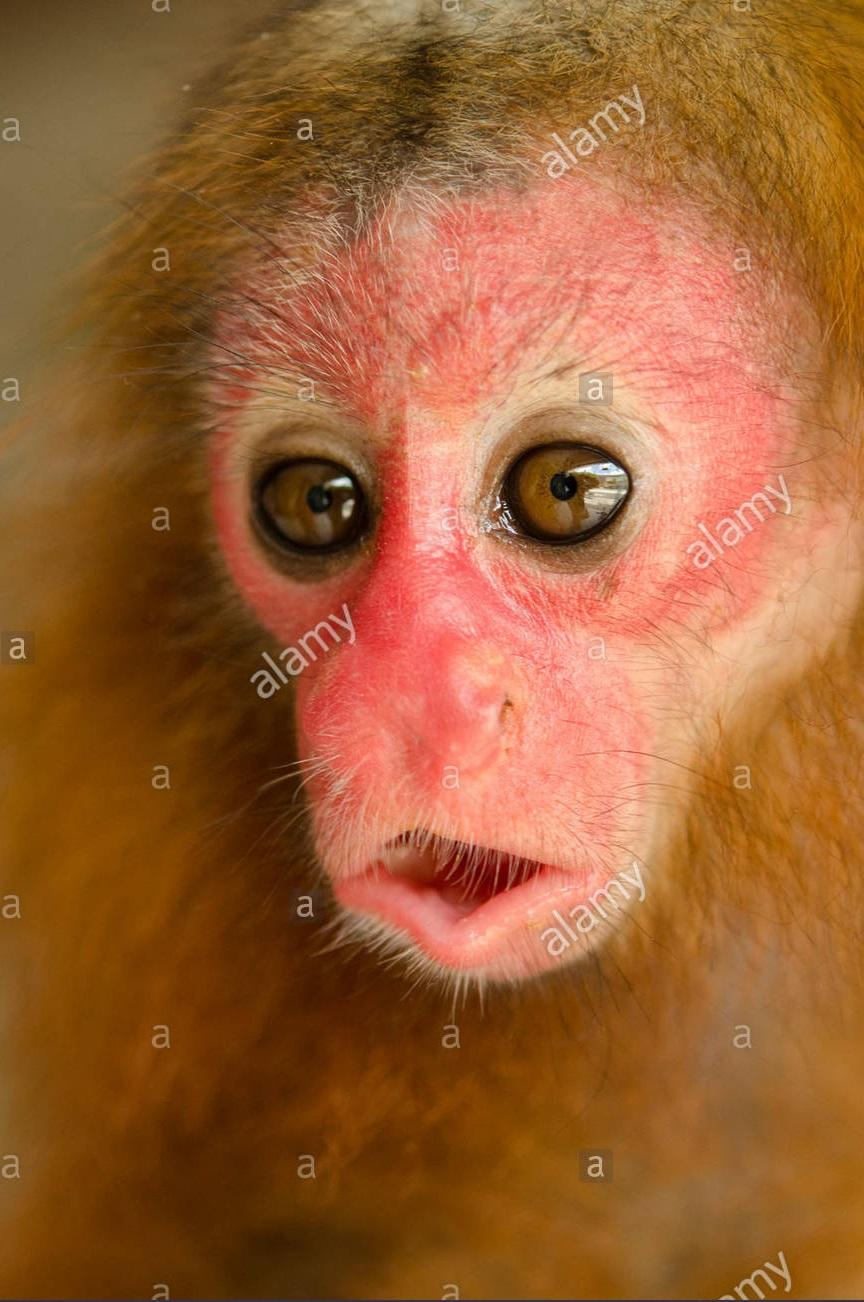monkey: (20, 0, 864, 1148)
